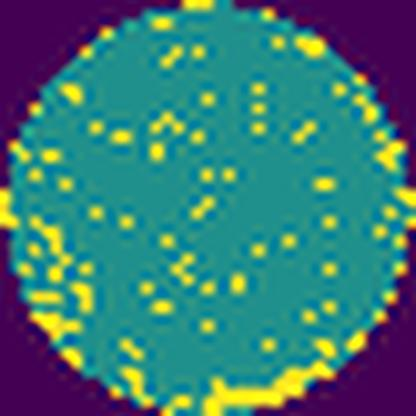Edge-Loc: (203, 333, 337, 415), (27, 307, 82, 342)
